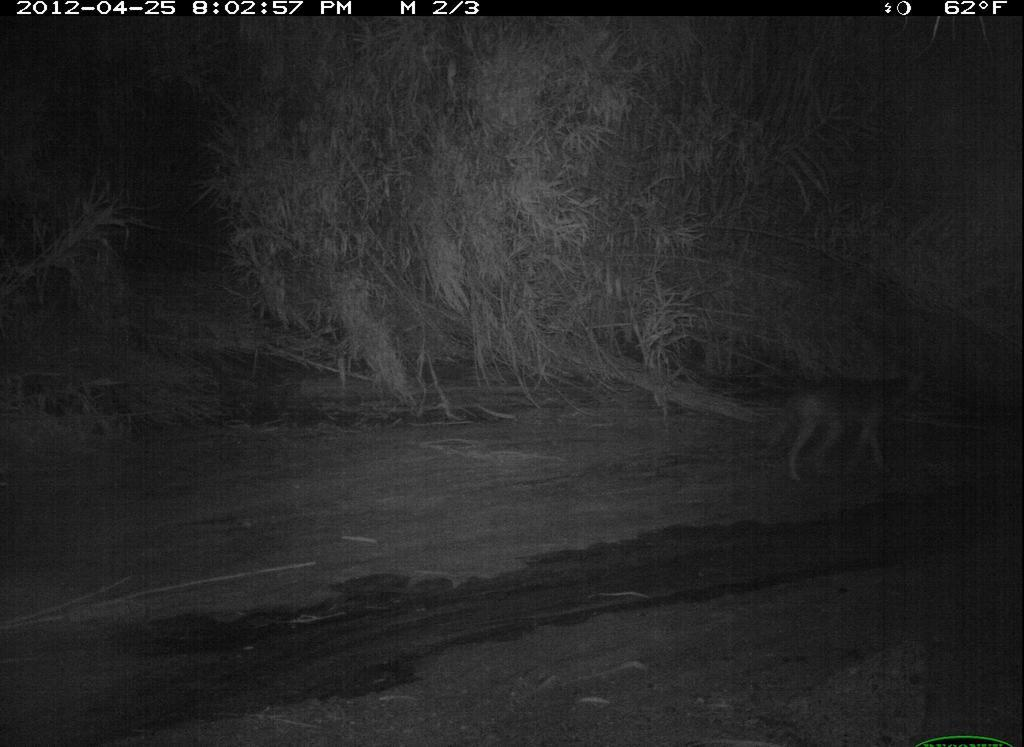coyote: (758, 355, 948, 486)
